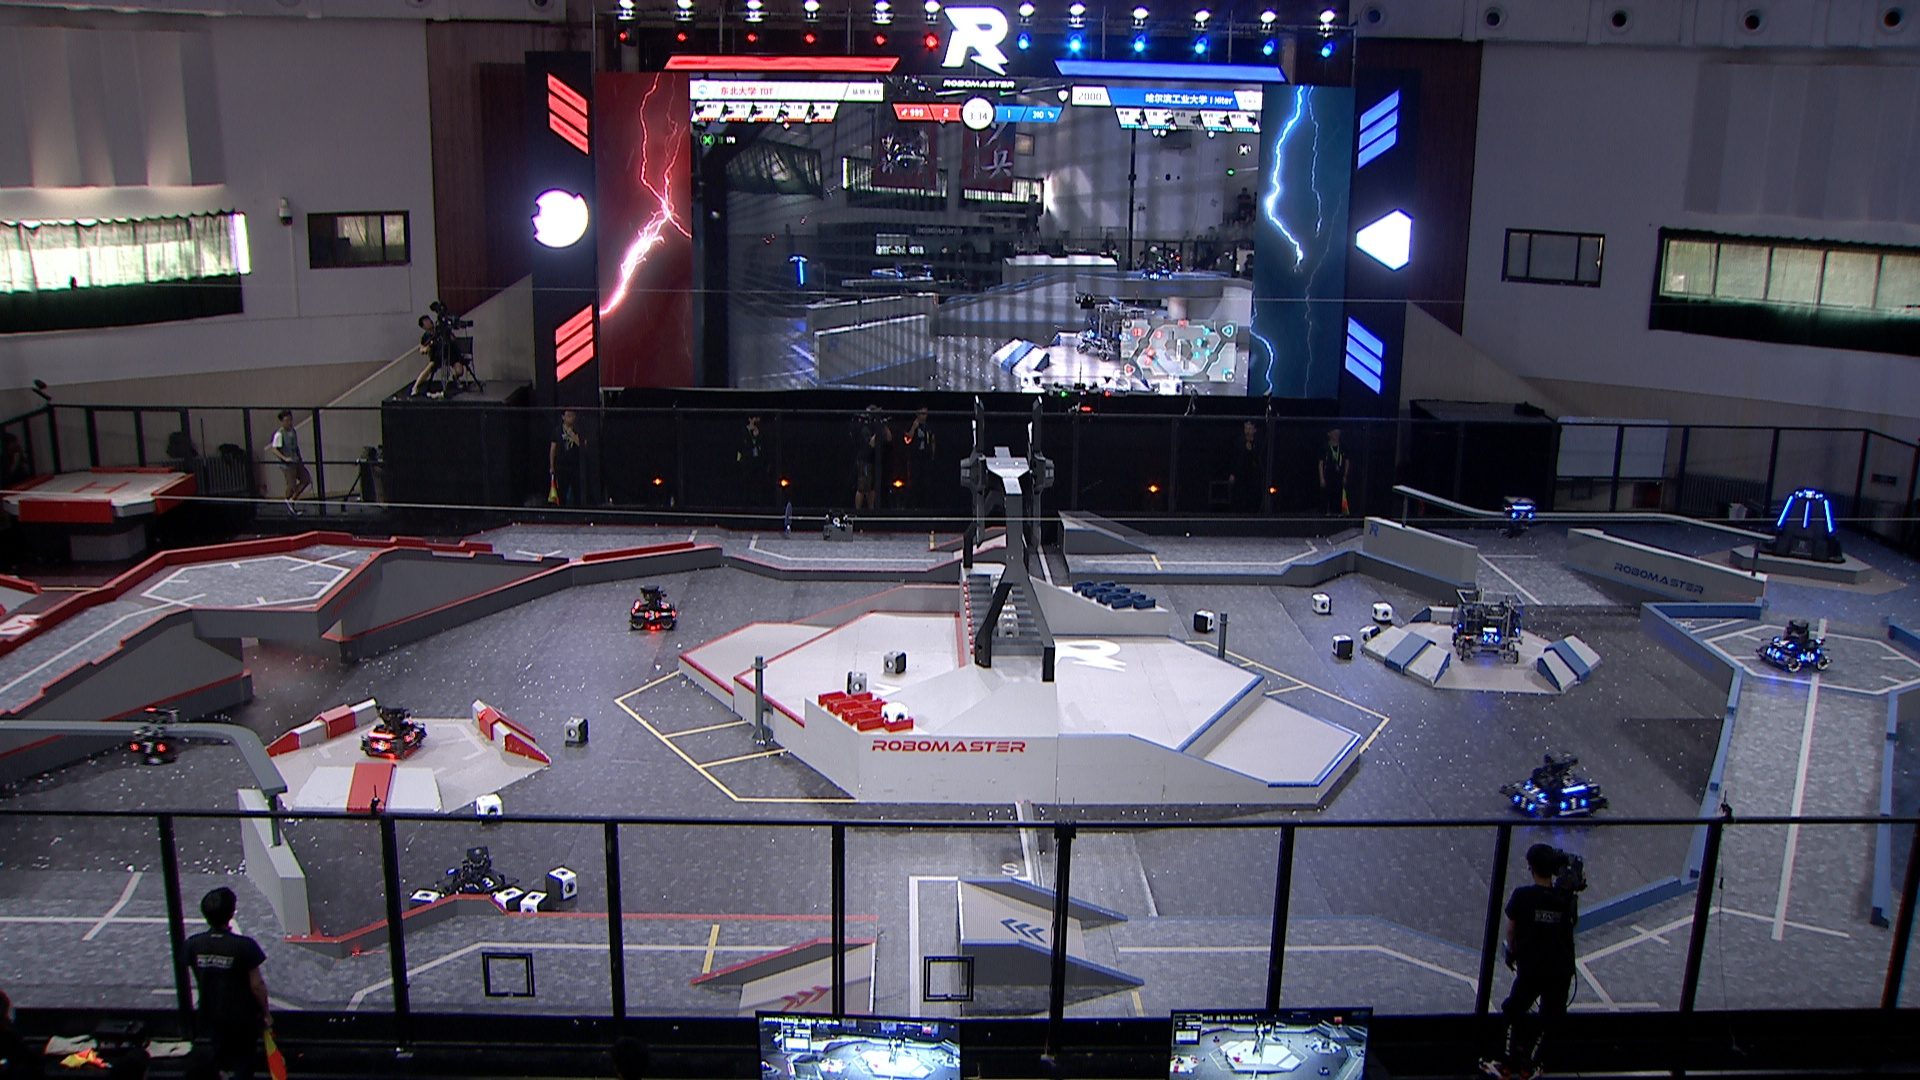armor: (131, 740, 167, 756), (1774, 495, 1793, 524), (472, 873, 504, 889), (1561, 794, 1586, 812), (1513, 793, 1534, 812), (1821, 498, 1833, 533), (1527, 785, 1545, 800), (371, 741, 390, 754), (1797, 489, 1821, 500), (1484, 632, 1501, 646), (1801, 501, 1811, 527), (404, 728, 419, 742), (642, 609, 659, 622), (1764, 646, 1782, 659), (1514, 510, 1534, 520), (1776, 636, 1793, 646), (659, 597, 669, 611), (1803, 651, 1816, 661)
base: (1756, 479, 1851, 564)
car: (1501, 752, 1607, 825), (1449, 580, 1528, 665), (438, 844, 524, 916), (1759, 616, 1840, 680), (359, 703, 430, 761), (626, 579, 680, 633)
ignore: (1079, 295, 1143, 361), (778, 255, 825, 306), (1143, 258, 1178, 286)
watcher: (127, 704, 185, 769), (1495, 495, 1542, 538)
